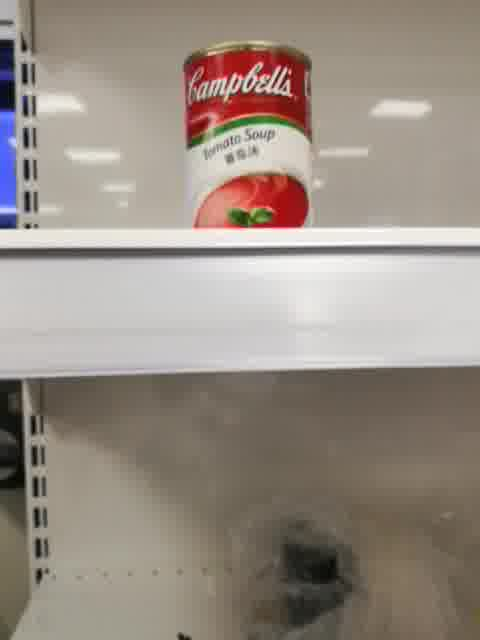tomatosoup: (181, 38, 315, 228)
